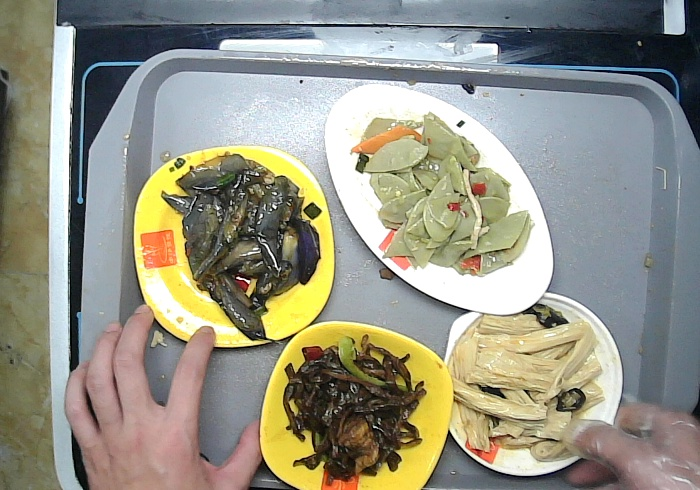SHKJ-Bao_Yu_Pan: (437, 292, 627, 483)
SHKJ-Huang_Se_Cai_Die: (260, 318, 452, 490)
SHKJ-Huang_Se_Si_Fang_Cai_Die: (132, 143, 338, 351)
SHKJ-Yu_Pan: (326, 81, 556, 316)
